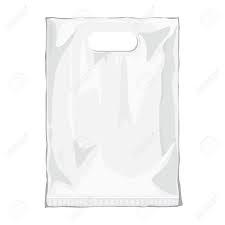Plastic bag: (35, 13, 193, 217)
